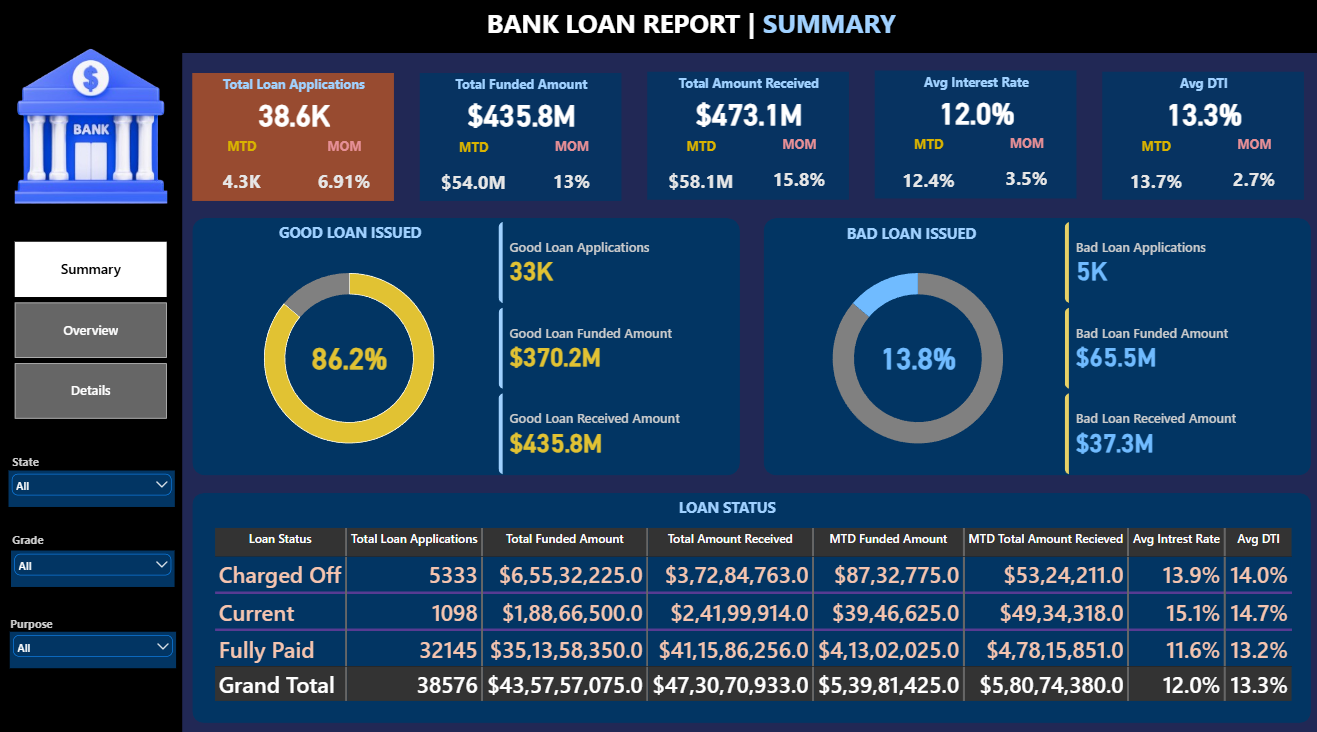

The dashboard page shown, as its layout file describes it:
{"tool":"powerbi","page":{"name":"Summary","canvas":[1920,1080],"ordinal":0},"visuals":[{"type":"shape","box":[1272.6,112.2,292.2,185.2],"z":0,"group":"g4"},{"type":"shape","box":[943.7,114,292.2,185.2],"z":0,"group":"g3"},{"type":"shape","box":[1601.5,114,292.2,185.2],"z":0,"group":"g5"},{"type":"shape","box":[284.1,115.8,292.2,185.2],"z":0,"group":"g1"},{"type":"shape","box":[613,115.8,292.2,185.2],"z":0,"group":"g2"},{"type":"shape","box":[283.6,325.5,793,372.7],"z":0},{"type":"slicer","fields":{"Values":["bank_loan_data.grade"]},"box":[21.7,806.8,237.1,52.5],"z":0,"group":"g7"},{"type":"slicer","fields":{"Values":["bank_loan_data.purpose"]},"box":[19.9,924.5,240.7,52.5],"z":0,"group":"g8"},{"type":"shape","box":[0,0,1920.1,86.9],"z":1000},{"type":"cardVisual","fields":{"Data":["bank_loan_data.Avg Intrest Rate"]},"box":[1324.5,145.3,190.5,59.5],"z":1000,"group":"g4"},{"type":"cardVisual","fields":{"Data":["bank_loan_data.Total Amount Received"]},"box":[995.6,147.1,190.5,59.5],"z":1000,"group":"g3"},{"type":"cardVisual","fields":{"Data":["bank_loan_data.Avg DTI"]},"box":[1653.4,147.1,190.5,59.5],"z":1000,"group":"g5"},{"type":"cardVisual","fields":{"Data":["bank_loan_data.Total Loan Applications"]},"box":[336,148.9,190.5,59.5],"z":1000,"group":"g1"},{"type":"cardVisual","fields":{"Data":["bank_loan_data.Total Funded Amount"]},"box":[664.9,148.9,190.5,59.5],"z":1000,"group":"g2"},{"type":"textbox","box":[16.3,779.7,59.7,27.1],"z":1000,"group":"g7"},{"type":"textbox","box":[19.9,901,62.5,23.5],"z":1000,"group":"g8"},{"type":"textbox","box":[1272.6,116.6,294.3,28.7],"z":2000,"group":"g4"},{"type":"textbox","box":[943.7,118.4,294.3,28.7],"z":2000,"group":"g3"},{"type":"textbox","box":[1601.5,118.4,294.3,28.7],"z":2000,"group":"g5"},{"type":"textbox","box":[284.1,120.2,294.3,28.7],"z":2000,"group":"g1"},{"type":"textbox","box":[613,120.2,294.3,28.7],"z":2000,"group":"g2"},{"type":"cardVisual","fields":{"Data":["bank_loan_data.Good Loan pct"]},"box":[439.7,499.5,144.8,59.7],"z":2000},{"type":"shape","box":[0,86.9,269.6,993.5],"z":3000},{"type":"cardVisual","title":"MTD","fields":{"Data":["bank_loan_data.MTD Avg Intrest Rate"]},"box":[1287.9,206.4,127.6,86.4],"z":3000,"group":"g4"},{"type":"cardVisual","title":"MTD","fields":{"Data":["bank_loan_data.MTD Total Amount Recieved"]},"box":[959,208.2,127.6,86.4],"z":3000,"group":"g3"},{"type":"cardVisual","title":"MTD","fields":{"Data":["bank_loan_data.MTD Avg DTI"]},"box":[1616.8,208.2,127.6,86.4],"z":3000,"group":"g5"},{"type":"cardVisual","title":"MTD","fields":{"Data":["bank_loan_data.MTD Loan Applications"]},"box":[299.2,208.4,114.7,83.8],"z":3000,"group":"g1"},{"type":"cardVisual","title":"MTD","fields":{"Data":["bank_loan_data.MTD Funded Amount"]},"box":[628.3,210,127.6,86.4],"z":3000,"group":"g2"},{"type":"cardVisual","title":"MOM","fields":{"Data":["bank_loan_data.MOM Avg Intrest Rate"]},"box":[1434.9,204.8,114.7,83.8],"z":4000,"group":"g4"},{"type":"cardVisual","title":"MOM","fields":{"Data":["bank_loan_data.MOM Total Recieved Amount"]},"box":[1106,206.6,114.7,83.8],"z":4000,"group":"g3"},{"type":"cardVisual","title":"MOM","fields":{"Data":["bank_loan_data.MOM Avg DTI"]},"box":[1763.8,206.6,114.7,83.8],"z":4000,"group":"g5"},{"type":"cardVisual","title":"MOM","fields":{"Data":["bank_loan_data.MOM Loan Applications"]},"box":[446.4,208.4,114.7,83.8],"z":4000,"group":"g1"},{"type":"cardVisual","title":"MOM","fields":{"Data":["bank_loan_data.MOM Total Funded Amount"]},"box":[775.3,208.4,114.7,83.8],"z":4000,"group":"g2"},{"type":"textbox","box":[365.6,331.2,294.3,28.7],"z":4000},{"type":"textbox","box":[22.7,667.5,45.9,23.5],"z":4000,"group":"g6"},{"type":"group","id":"g1","title":"Group 1","box":[284.1,115.8,293.2,186.4],"z":5000},{"type":"group","id":"g2","title":"Group 1","box":[613,115.8,295,186.4],"z":6000},{"type":"group","id":"g3","title":"Group 1","box":[943.7,114,293.2,186.4],"z":7000},{"type":"donutChart","fields":{"Category":["bank_loan_data.Good Vs Bad Loan"],"Y":["bank_loan_data.Total Loan Applications"]},"box":[296.8,360.1,428.9,338.4],"z":8000},{"type":"group","id":"g4","title":"Group 1","box":[1272.6,112.2,293.2,186.4],"z":9000},{"type":"group","id":"g5","title":"Group 1","box":[1601.5,114,295,186.4],"z":10000},{"type":"shape","box":[1110.9,325.5,793,372.7],"z":11000},{"type":"textbox","box":[0,18.1,1920.1,50.7],"z":12000},{"type":"cardVisual","fields":{"Data":["bank_loan_data.Good Loan Applications","bank_loan_data.Good Loan Funded Amount","bank_loan_data.Good Loan Received Amount"]},"box":[727.5,331.2,331.2,367.4],"z":13000},{"type":"donutChart","fields":{"Category":["bank_loan_data.Good Vs Bad Loan"],"Y":["bank_loan_data.Total Loan Applications"]},"box":[1120.2,360.1,428.9,338.4],"z":14000},{"type":"textbox","box":[1178.1,333,294.3,28.7],"z":15000},{"type":"cardVisual","fields":{"Data":["bank_loan_data.Bad Loan pct"]},"box":[1263.1,499.5,144.8,59.7],"z":16000},{"type":"cardVisual","fields":{"Data":["bank_loan_data.Bad Loan Applications","bank_loan_data.Bad Loan Funded Amount","bank_loan_data.Bad Loan Received Amount"]},"box":[1547.3,331.2,331.2,367.4],"z":17000},{"type":"shape","box":[284.1,723.9,1619.6,333],"z":18000},{"type":"tableEx","fields":{"Values":["bank_loan_data.loan_status","bank_loan_data.Total Loan Applications","bank_loan_data.Total Funded Amount","bank_loan_data.Total Amount Received","bank_loan_data.MTD Funded Amount","bank_loan_data.MTD Total Amount Recieved","bank_loan_data.Avg Intrest Rate","bank_loan_data.Avg DTI"]},"box":[300.4,760.1,1596.1,296.8],"z":19000},{"type":"textbox","box":[924.7,729.3,267.8,36.2],"z":20000},{"type":"group","id":"g6","title":"Group 2","box":[18.1,667.5,240.7,76],"z":21000},{"type":"slicer","fields":{"Values":["bank_loan_data.address_state"]},"box":[18.1,691.9,240.7,52.5],"z":22000,"group":"g6"},{"type":"group","id":"g7","title":"Group 3","box":[16.3,779.7,242.5,79.6],"z":22000},{"type":"group","id":"g8","title":"Group 4","box":[19.9,901,240.7,76],"z":23000},{"type":"image","box":[27.1,68.8,220.8,246.1],"z":24000},{"type":"pageNavigator","box":[27.1,360.1,220.8,257],"z":26000}]}

Visuals, with their boxes in screenshot pixels (x1, y1, x2, y2), scaled from the page's 1920x1080 canvas onto the 1317x732 screenshot:
shape: pyautogui.locateOnScreen(873, 76, 1073, 202)
shape: pyautogui.locateOnScreen(647, 77, 848, 203)
shape: pyautogui.locateOnScreen(1099, 77, 1299, 203)
shape: pyautogui.locateOnScreen(195, 78, 395, 204)
shape: pyautogui.locateOnScreen(420, 78, 621, 204)
shape: pyautogui.locateOnScreen(195, 221, 738, 473)
slicer - bank_loan_data.grade: pyautogui.locateOnScreen(15, 547, 178, 582)
slicer - bank_loan_data.purpose: pyautogui.locateOnScreen(14, 627, 179, 662)
shape: pyautogui.locateOnScreen(0, 0, 1316, 59)
cardVisual - bank_loan_data.Avg Intrest Rate: pyautogui.locateOnScreen(909, 98, 1039, 139)
cardVisual - bank_loan_data.Total Amount Received: pyautogui.locateOnScreen(683, 100, 814, 140)
cardVisual - bank_loan_data.Avg DTI: pyautogui.locateOnScreen(1134, 100, 1265, 140)
cardVisual - bank_loan_data.Total Loan Applications: pyautogui.locateOnScreen(230, 101, 361, 141)
cardVisual - bank_loan_data.Total Funded Amount: pyautogui.locateOnScreen(456, 101, 587, 141)
textbox: pyautogui.locateOnScreen(11, 528, 52, 547)
textbox: pyautogui.locateOnScreen(14, 611, 57, 627)
textbox: pyautogui.locateOnScreen(873, 79, 1075, 98)
textbox: pyautogui.locateOnScreen(647, 80, 849, 100)
textbox: pyautogui.locateOnScreen(1099, 80, 1300, 100)
textbox: pyautogui.locateOnScreen(195, 81, 397, 101)
textbox: pyautogui.locateOnScreen(420, 81, 622, 101)
cardVisual - bank_loan_data.Good Loan pct: pyautogui.locateOnScreen(302, 339, 401, 379)
shape: pyautogui.locateOnScreen(0, 59, 185, 731)
"MTD" cardVisual: pyautogui.locateOnScreen(883, 140, 971, 198)
"MTD" cardVisual: pyautogui.locateOnScreen(658, 141, 745, 200)
"MTD" cardVisual: pyautogui.locateOnScreen(1109, 141, 1197, 200)
"MTD" cardVisual: pyautogui.locateOnScreen(205, 141, 284, 198)
"MTD" cardVisual: pyautogui.locateOnScreen(431, 142, 519, 201)
"MOM" cardVisual: pyautogui.locateOnScreen(984, 139, 1063, 196)
"MOM" cardVisual: pyautogui.locateOnScreen(759, 140, 837, 197)
"MOM" cardVisual: pyautogui.locateOnScreen(1210, 140, 1289, 197)
"MOM" cardVisual: pyautogui.locateOnScreen(306, 141, 385, 198)
"MOM" cardVisual: pyautogui.locateOnScreen(532, 141, 610, 198)
textbox: pyautogui.locateOnScreen(251, 224, 453, 244)
textbox: pyautogui.locateOnScreen(16, 452, 47, 468)
"Group 1" group: pyautogui.locateOnScreen(195, 78, 396, 205)
"Group 1" group: pyautogui.locateOnScreen(420, 78, 623, 205)
"Group 1" group: pyautogui.locateOnScreen(647, 77, 848, 204)
donutChart - bank_loan_data.Good Vs Bad Loan x bank_loan_data.Total Loan Applications: pyautogui.locateOnScreen(204, 244, 498, 473)
"Group 1" group: pyautogui.locateOnScreen(873, 76, 1074, 202)
"Group 1" group: pyautogui.locateOnScreen(1099, 77, 1301, 204)
shape: pyautogui.locateOnScreen(762, 221, 1306, 473)
textbox: pyautogui.locateOnScreen(0, 12, 1316, 47)
cardVisual - bank_loan_data.Good Loan Applications x bank_loan_data.Good Loan Funded Amount: pyautogui.locateOnScreen(499, 224, 726, 473)
donutChart - bank_loan_data.Good Vs Bad Loan x bank_loan_data.Total Loan Applications: pyautogui.locateOnScreen(768, 244, 1063, 473)
textbox: pyautogui.locateOnScreen(808, 226, 1010, 245)
cardVisual - bank_loan_data.Bad Loan pct: pyautogui.locateOnScreen(866, 339, 966, 379)
cardVisual - bank_loan_data.Bad Loan Applications x bank_loan_data.Bad Loan Funded Amount: pyautogui.locateOnScreen(1061, 224, 1289, 473)
shape: pyautogui.locateOnScreen(195, 491, 1306, 716)
tableEx - bank_loan_data.loan_status x bank_loan_data.Total Loan Applications: pyautogui.locateOnScreen(206, 515, 1301, 716)
textbox: pyautogui.locateOnScreen(634, 494, 818, 519)
"Group 2" group: pyautogui.locateOnScreen(12, 452, 178, 504)
slicer - bank_loan_data.address_state: pyautogui.locateOnScreen(12, 469, 178, 505)
"Group 3" group: pyautogui.locateOnScreen(11, 528, 178, 582)
"Group 4" group: pyautogui.locateOnScreen(14, 611, 179, 662)
image: pyautogui.locateOnScreen(19, 47, 170, 213)
pageNavigator: pyautogui.locateOnScreen(19, 244, 170, 418)
